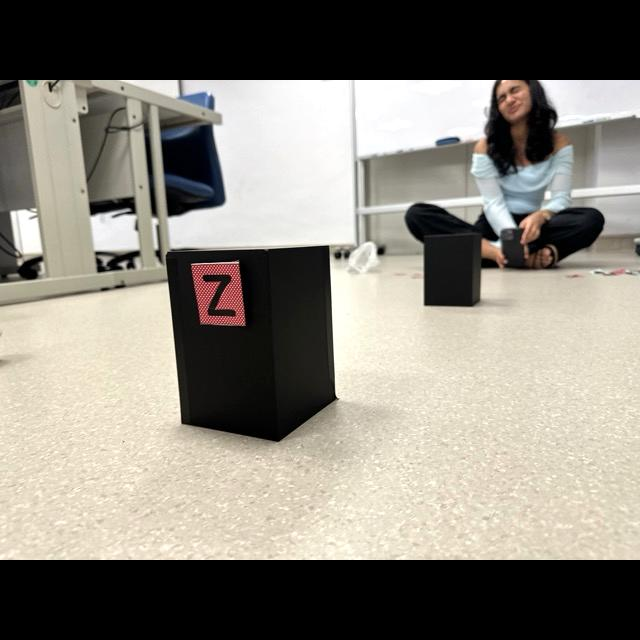Z: (202, 274, 236, 316)
